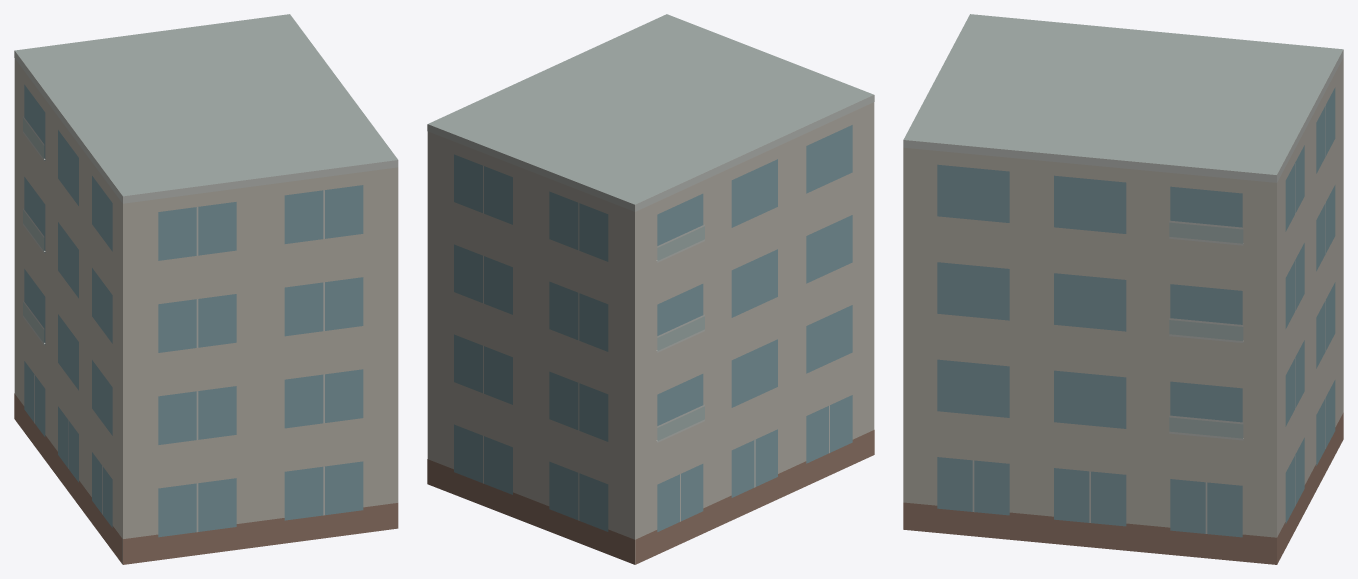
File: residential-6404a46c-3d1f-45bc-8e36-4eb2bc163b7f.glb
The picture shows the model from 3 angles, left to right: view 1: azimuth 30°, elevation 25°; view 2: azimuth 150°, elevation 25°; view 3: azimuth 270°, elevation 25°; orthographic projection. The views are drawn at different scales.
Parts seen in each view (by area): view 1: residential-6404a46c-3d1f-45bc-8e36-4eb2bc163b7f.tmp; view 2: residential-6404a46c-3d1f-45bc-8e36-4eb2bc163b7f.tmp; view 3: residential-6404a46c-3d1f-45bc-8e36-4eb2bc163b7f.tmp.
Part boxes in pixels (x1,y1,x2,y2): residential-6404a46c-3d1f-45bc-8e36-4eb2bc163b7f.tmp: (14,14,398,564); residential-6404a46c-3d1f-45bc-8e36-4eb2bc163b7f.tmp: (427,14,874,564); residential-6404a46c-3d1f-45bc-8e36-4eb2bc163b7f.tmp: (903,14,1343,564).
Size of the model in its own units: 10.83 by 12.2 by 12.5.
